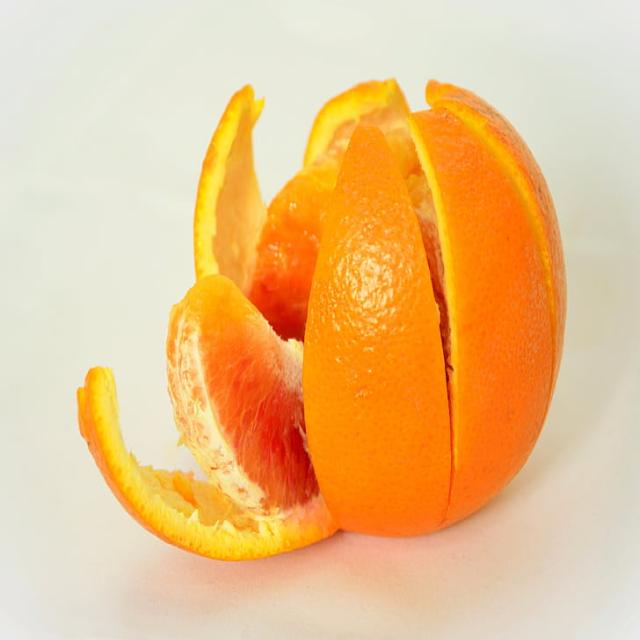orange: (102, 70, 567, 557)
